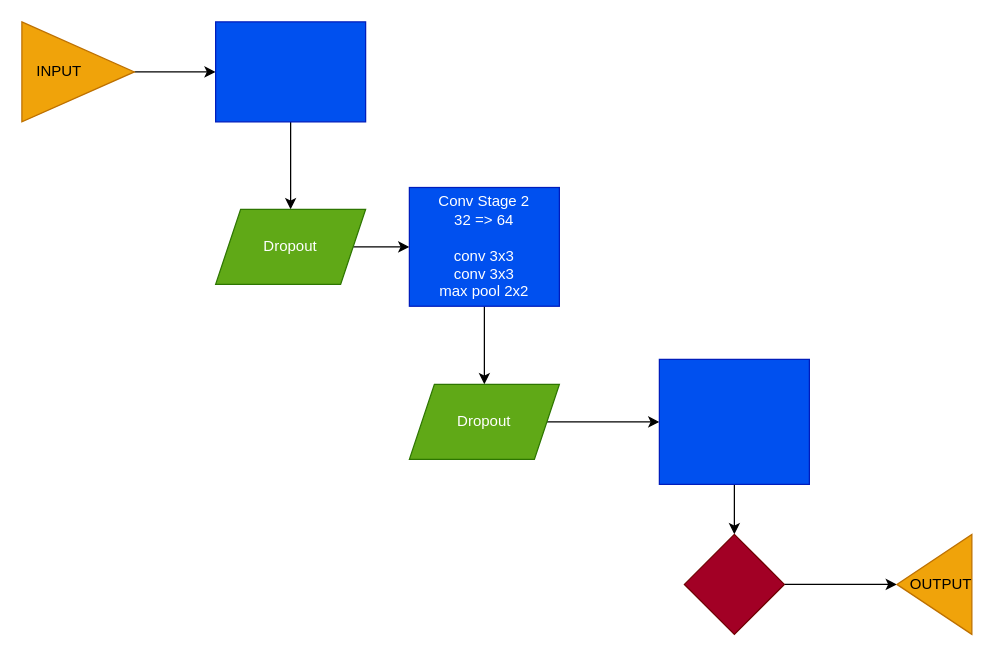
This 994x656 diagram has some shape labels left out. Each missing label, with the centre of its shape:
"Conv Stage 1 3 => 32 conv 3x3 max pool 2x2" goes at [290,71].
"Conv Stage 3 64 => 128 conv 3x3 conv 3x3 max pool 2x2" goes at [733,421].
"FC" goes at [733,583].
